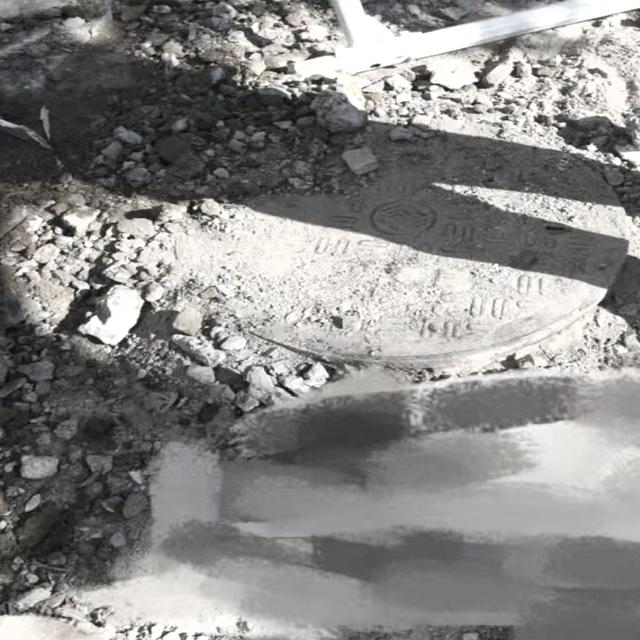circle: (87, 113, 640, 415)
